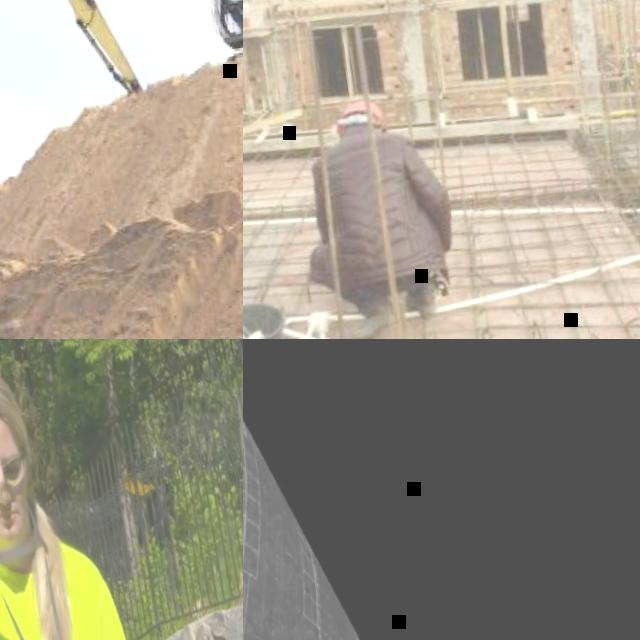Hardhat: (333, 97, 387, 135)
NO-Hardhat: (0, 365, 25, 448)
NO-Mask: (0, 492, 35, 551)
NO-Safety Vest: (310, 127, 439, 284), (0, 519, 141, 640)
Person: (0, 348, 185, 640), (283, 83, 468, 339)
vehicle: (49, 0, 243, 104)
